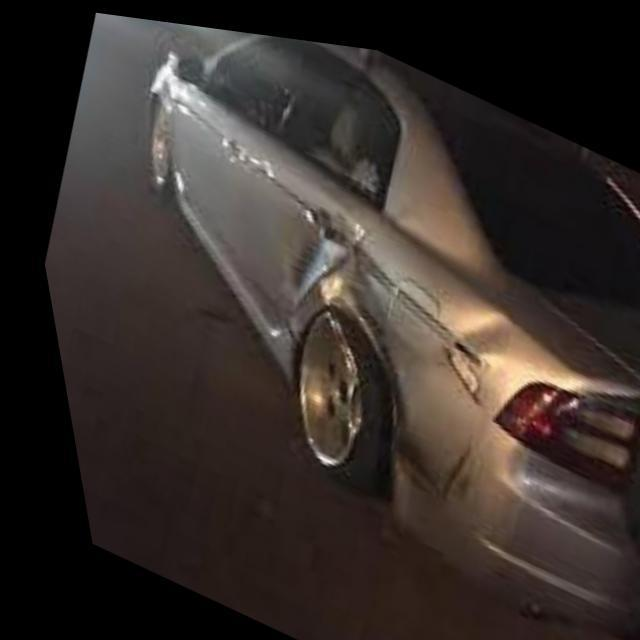crack: (432, 296, 506, 400)
dent: (277, 203, 470, 499)
